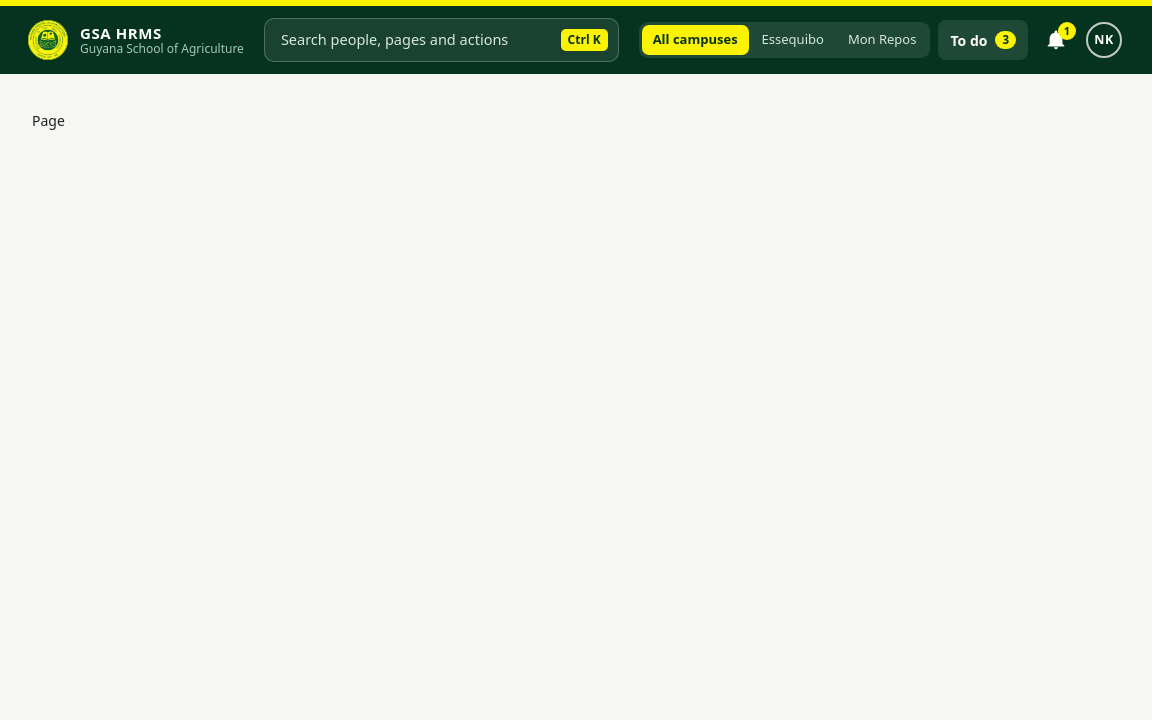
Scenario: the frame › closes a menu with Esc or a click outside it
Click the button named "Notifications, 1 unread" at (1056, 40), box x1=1036 y1=20 x2=1076 y2=60
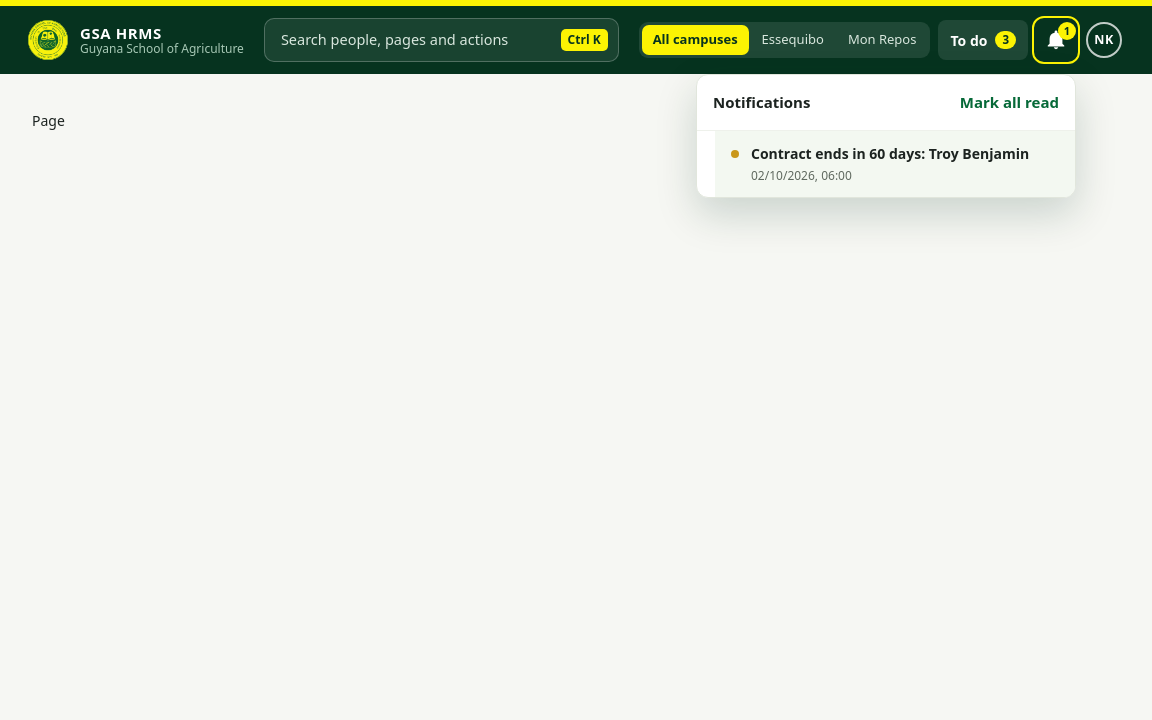
Expected: the dialog "Notifications" is shown, x1=696 y1=74 x2=1076 y2=198
Press Escape
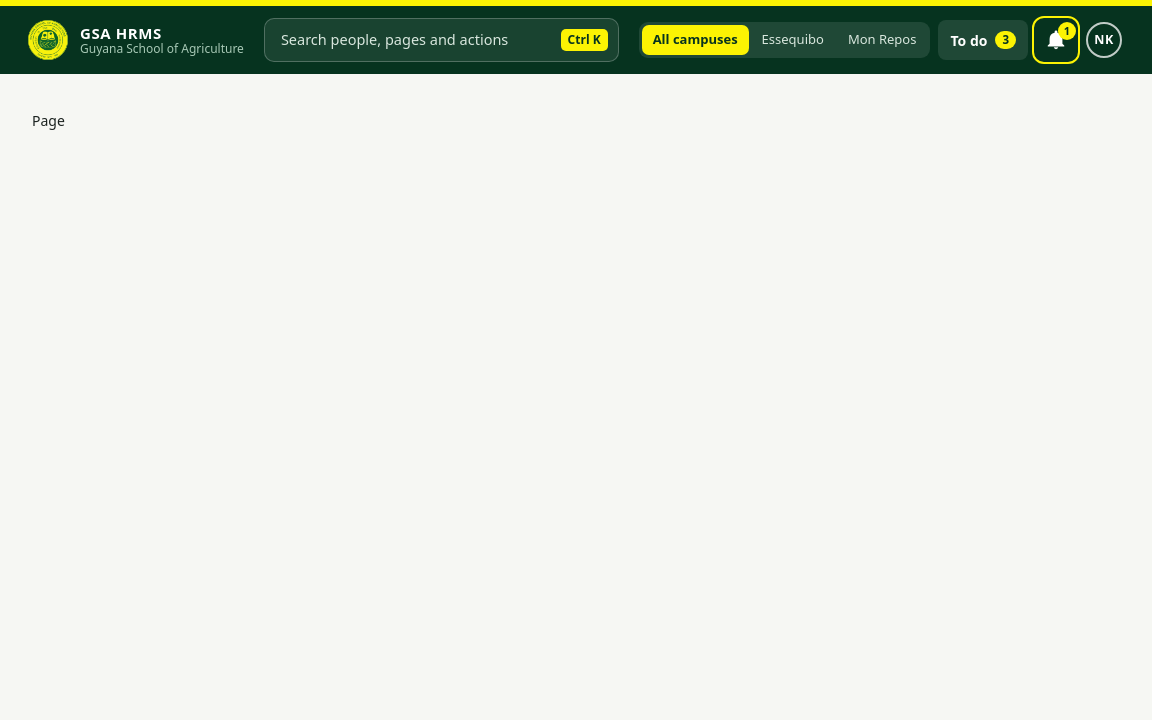
Expected: the text "Notifications" is gone
Click the button named "Notifications, 1 unread" at (1056, 40), box x1=1036 y1=20 x2=1076 y2=60
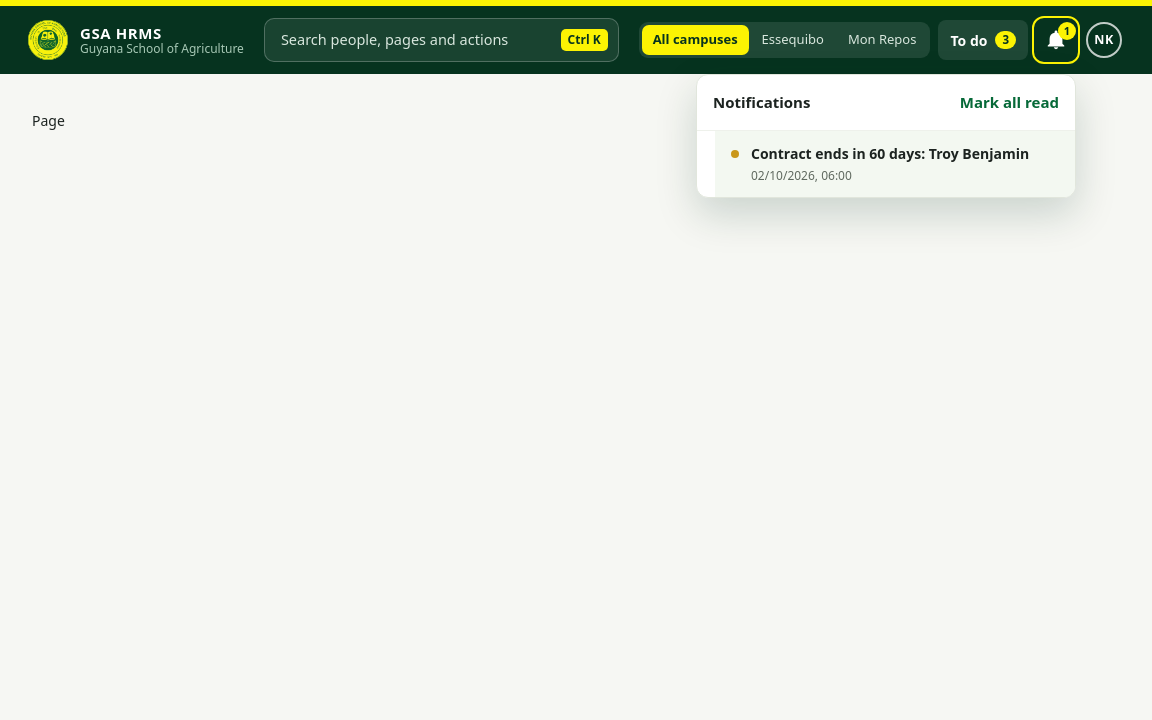
Click the element with class "popover-backdrop" at (576, 360), box x1=0 y1=0 x2=1151 y2=719
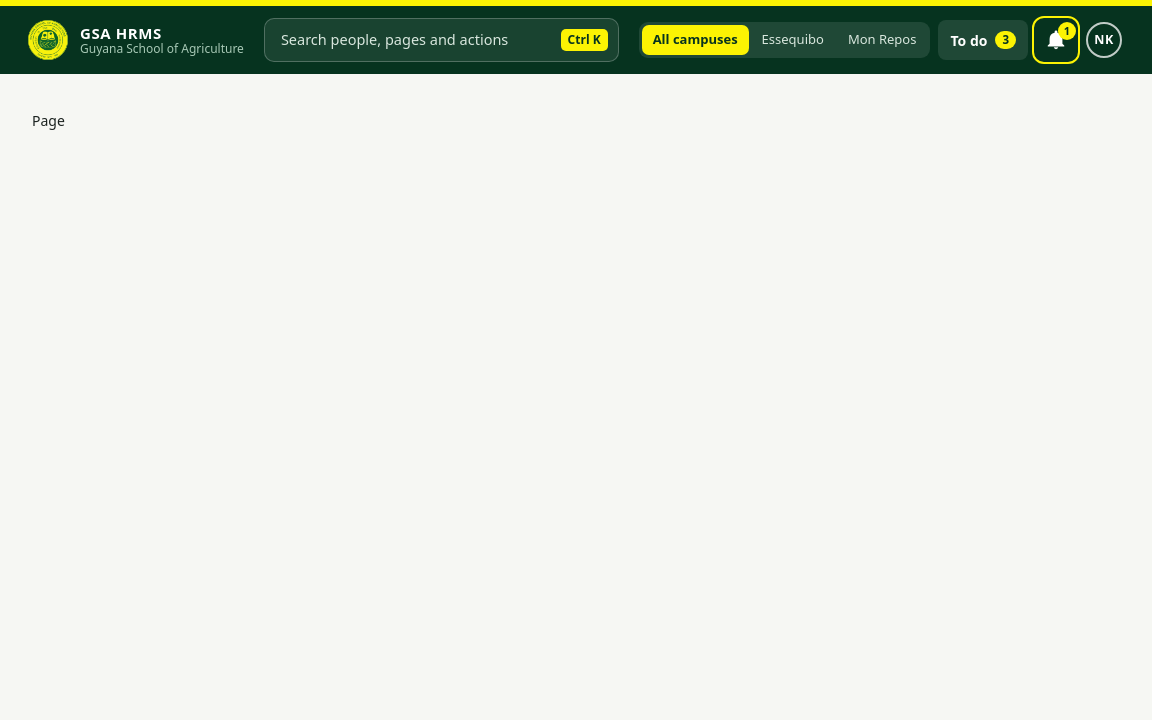
Expected: the text "Notifications" is gone
